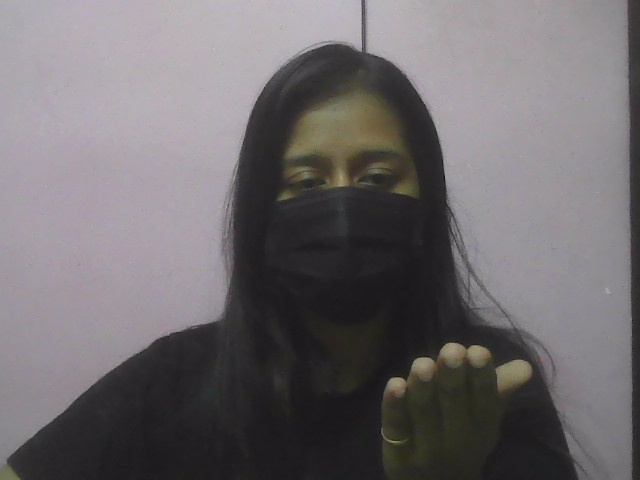Thank you: (346, 321, 558, 479)
